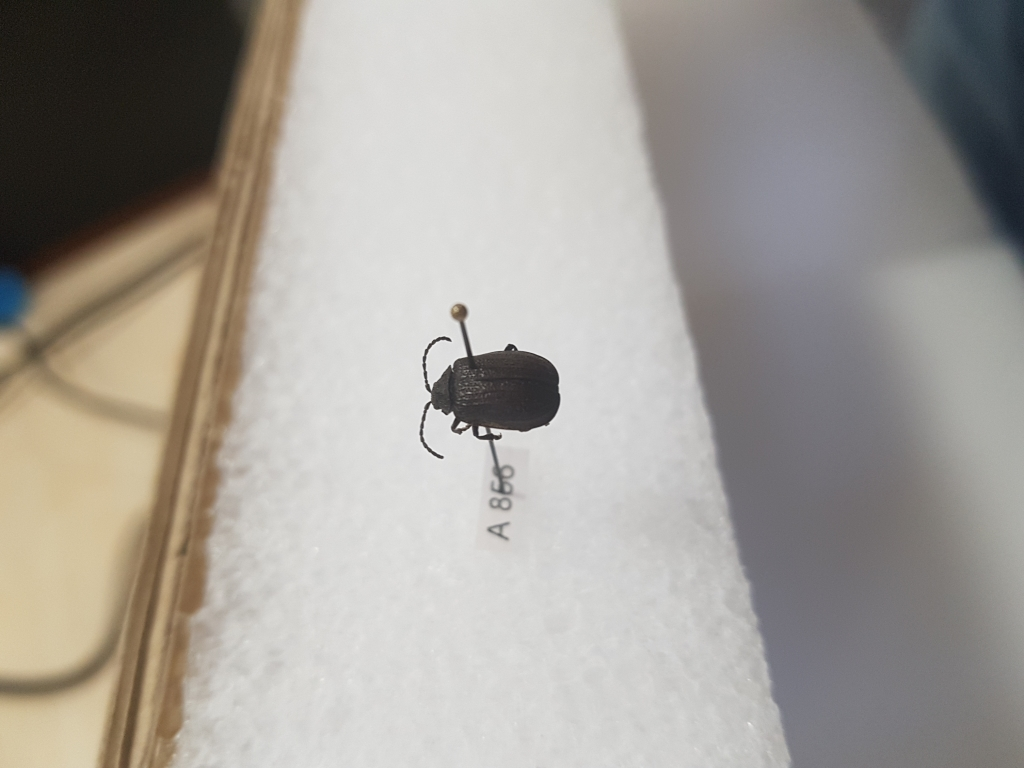Galeruca_tanaceti: (405, 328, 566, 462)
